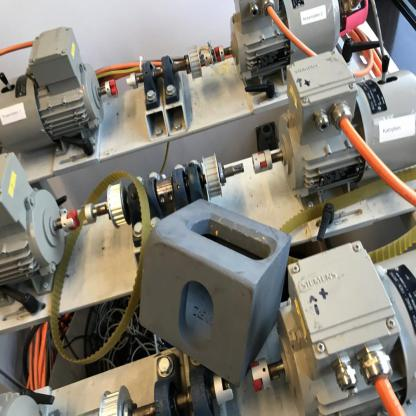CornerCasting: (137, 196, 295, 392)
